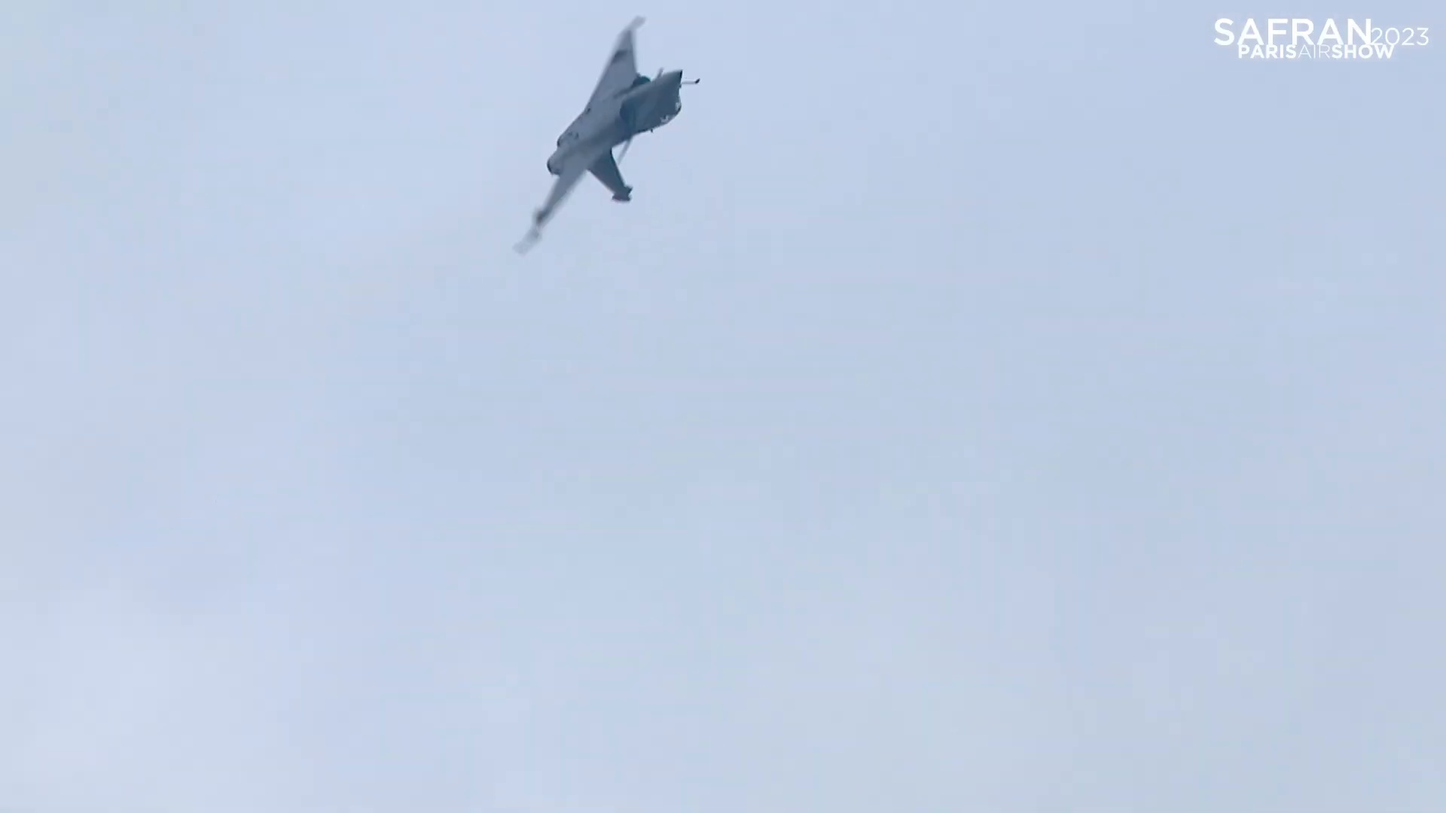Rafale: (506, 6, 704, 261)
